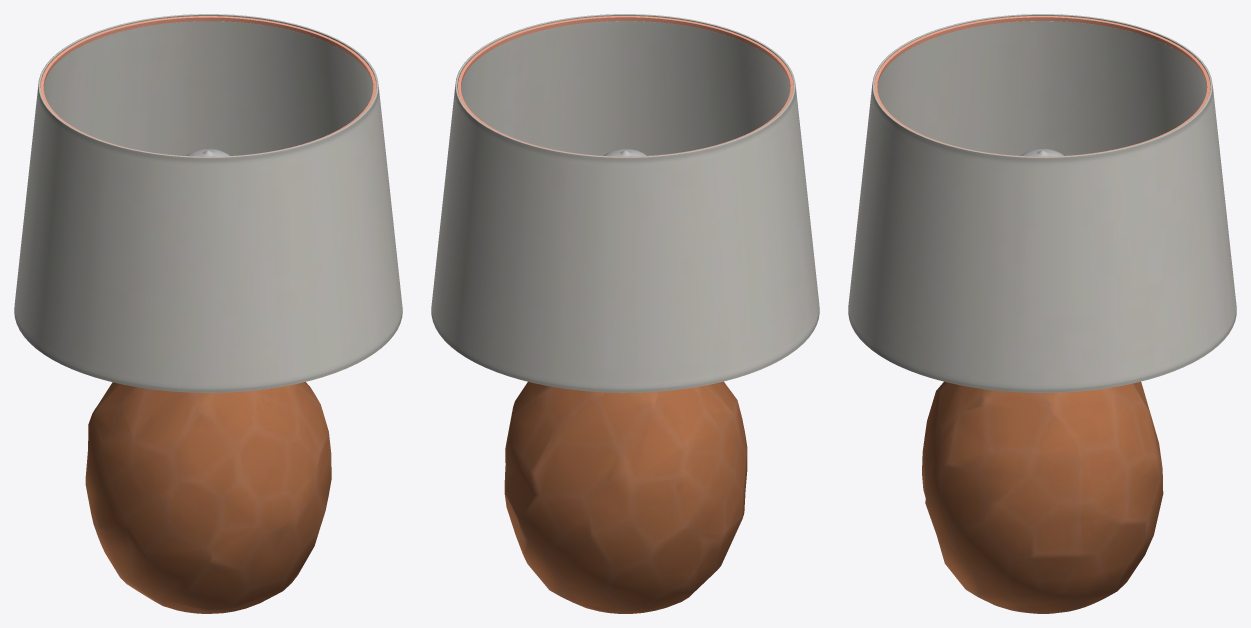
Rendered from abo-B07374VCVN.glb.
3 views of the same model, side by side, from view 1: azimuth 30°, elevation 25°; view 2: azimuth 150°, elevation 25°; view 3: azimuth 270°, elevation 25° (orthographic).
Size of the model in its own units: 0.301 by 0.431 by 0.301.
1 material, 1 textured.
